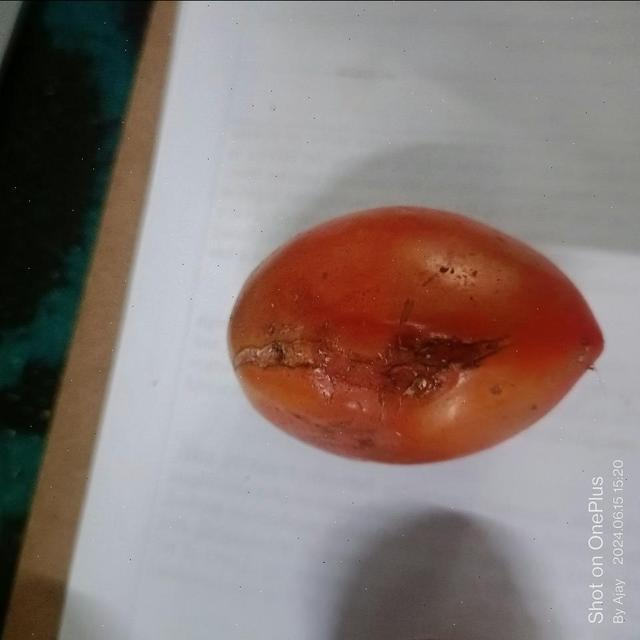Cracking Fruit: (174, 122, 429, 330)
